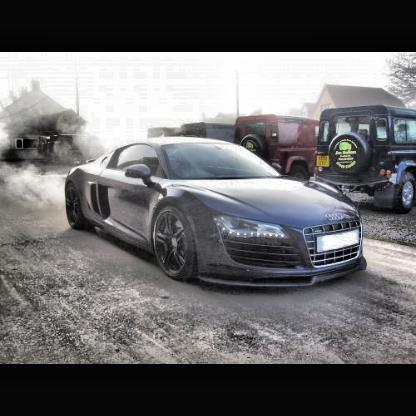Audi R8 Coupe 2012: (64, 133, 372, 297)
